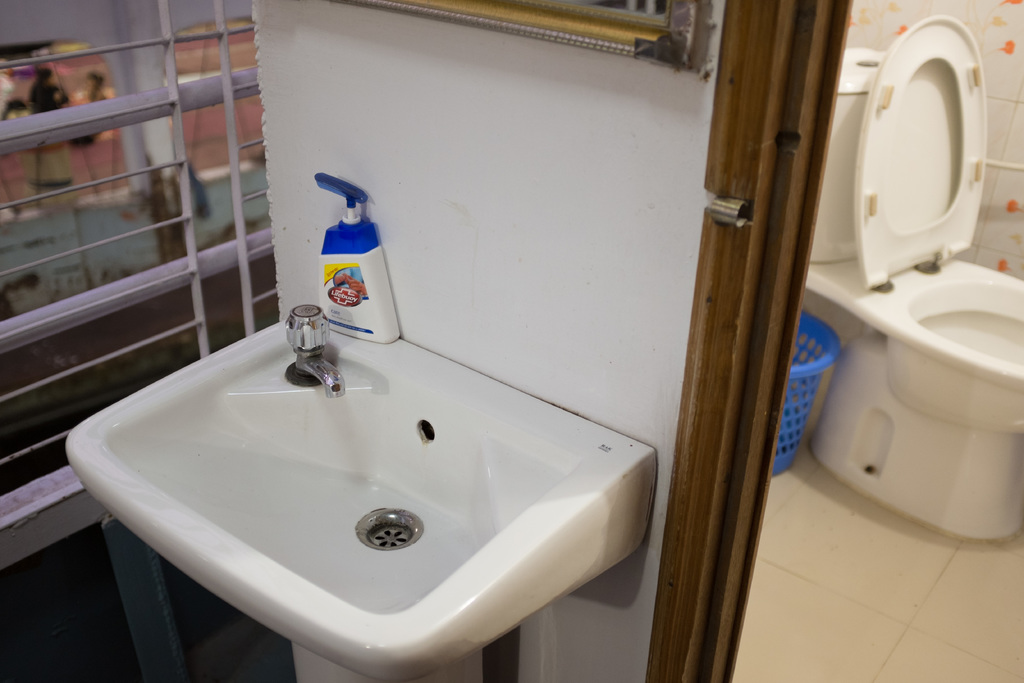tap: (285, 302, 346, 399)
